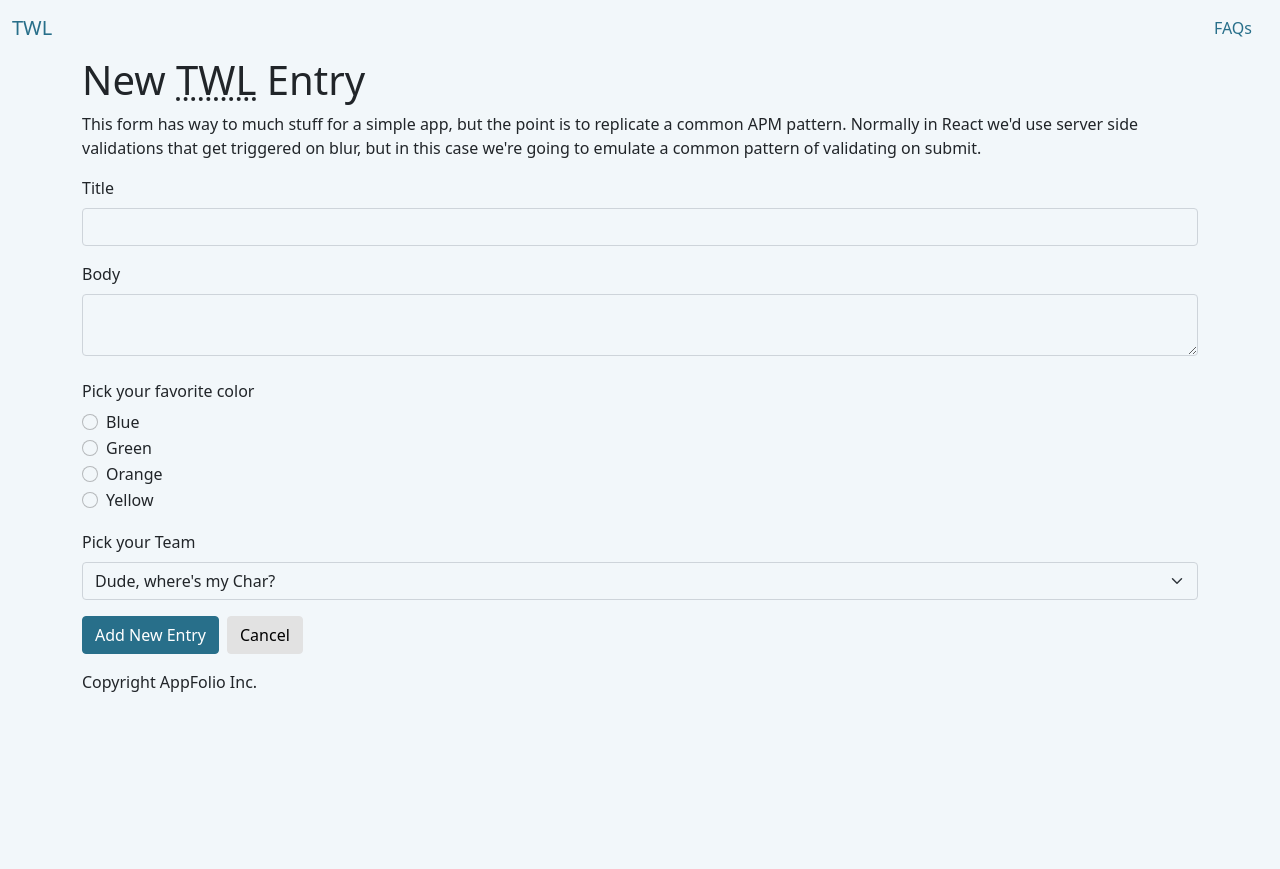
App › shows error messages on the form
Click the button "Add New Entry" at coordinates (150, 635), box [82,616,219,654]
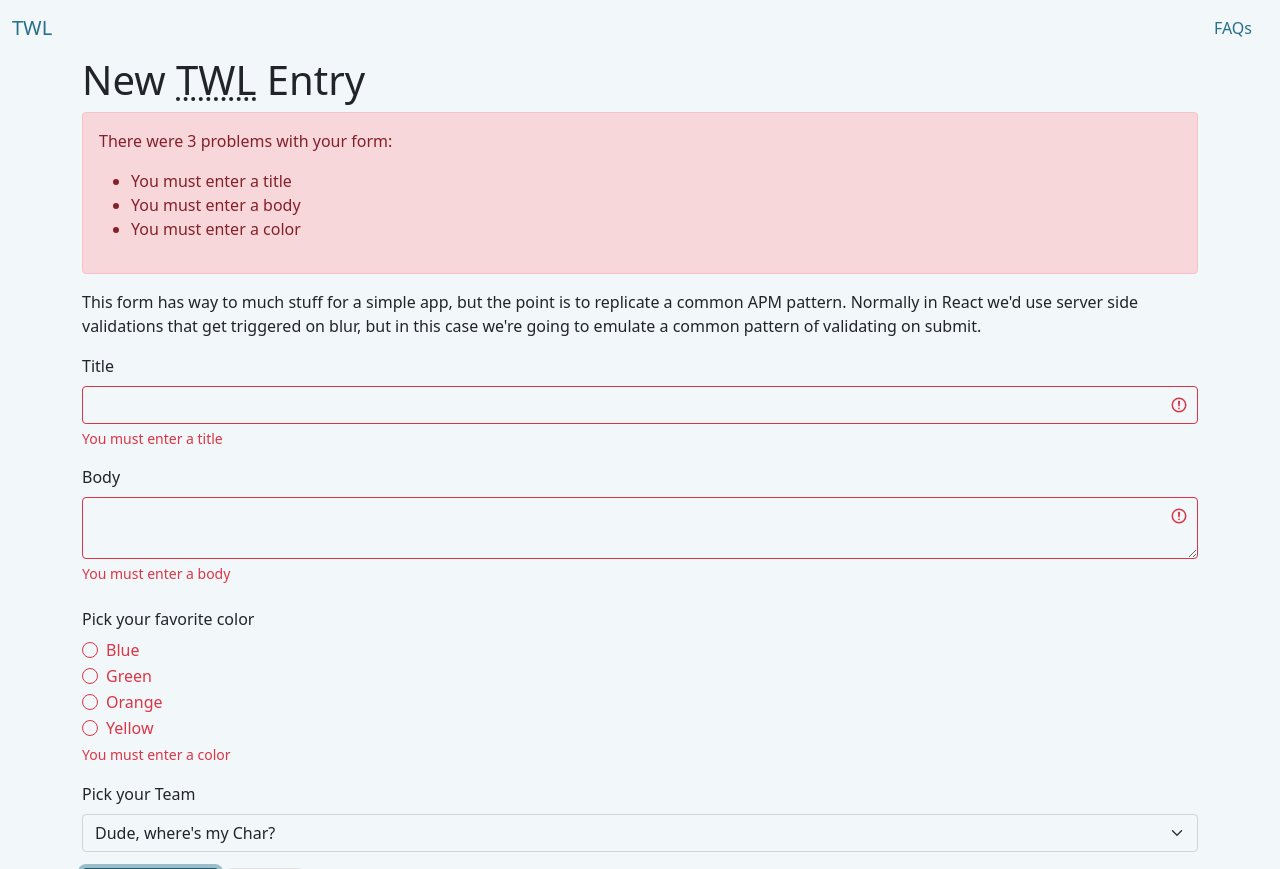
Now the text "There were 3 problems with your form:" is shown, box [99,130,392,152]
Now the number of list items "You must enter a title" is 2, box [131,170,292,192]; [82,429,223,448]
Now the number of list items "You must enter a body" is 2, box [131,194,301,216]; [82,564,230,583]
